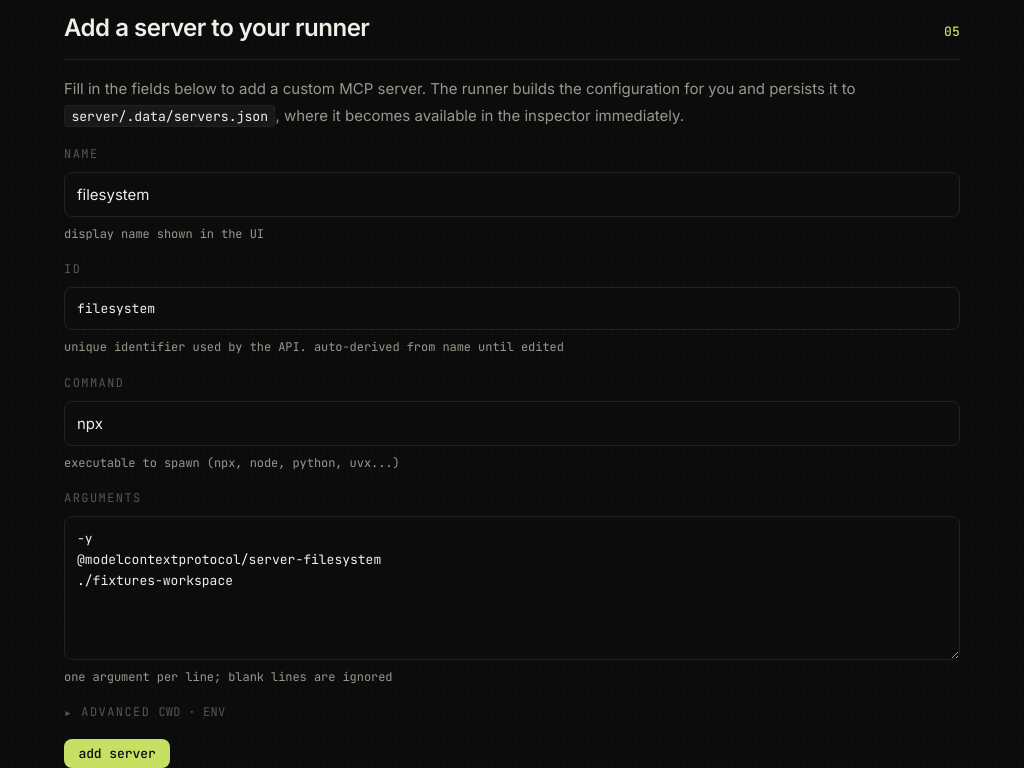
Scenario: HomePage › dismisses the error banner when the dismiss button is clicked
(page scrolled)
Click the button "add server".
click(117, 753)  # box [64,738,170,767]
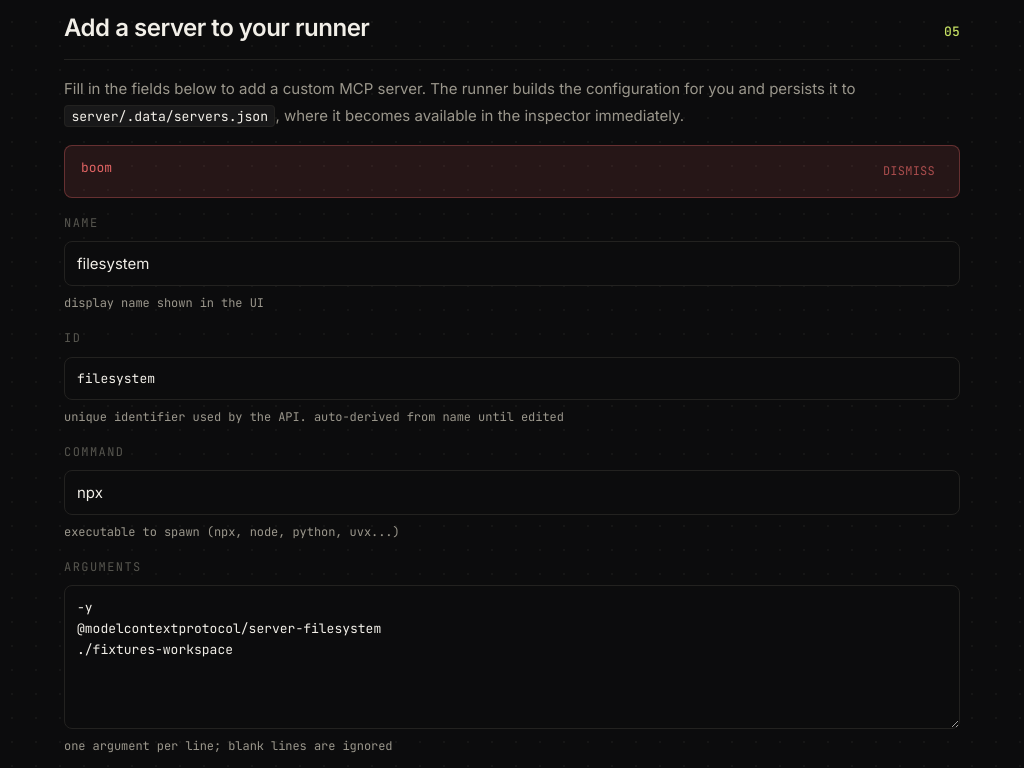
Now the message shows "boom", box [81,159,112,176]
Click the button with aria-label "dismiss error".
click(909, 171)  # box [875,158,943,185]
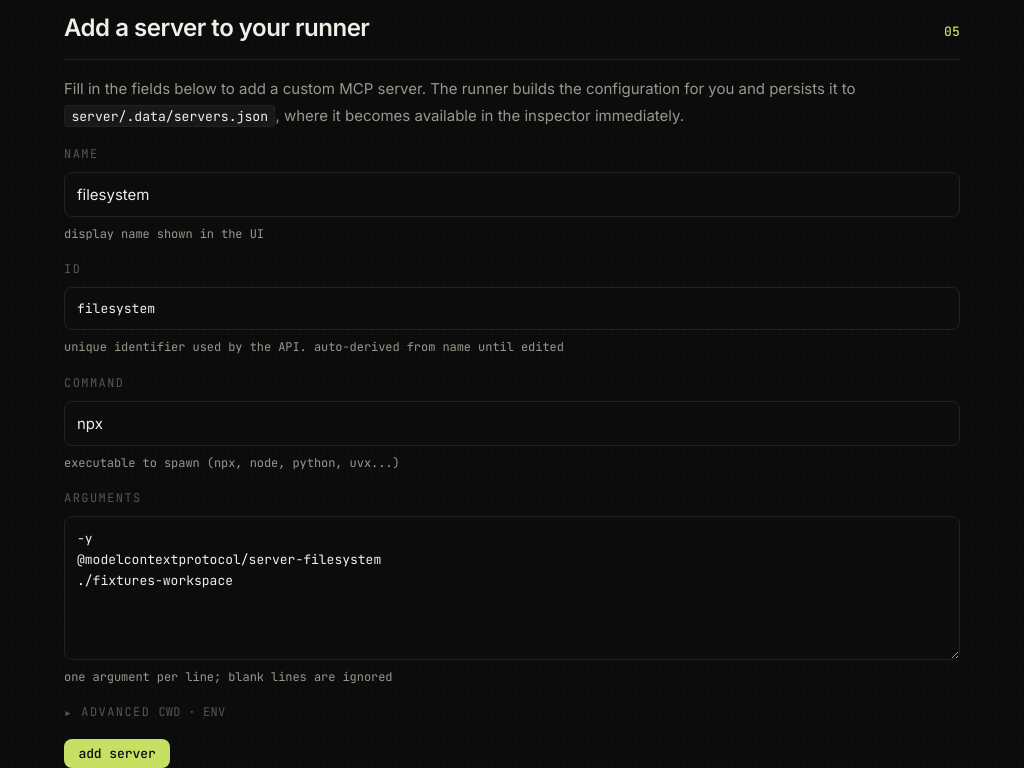
Now the message "boom dismiss" is gone
